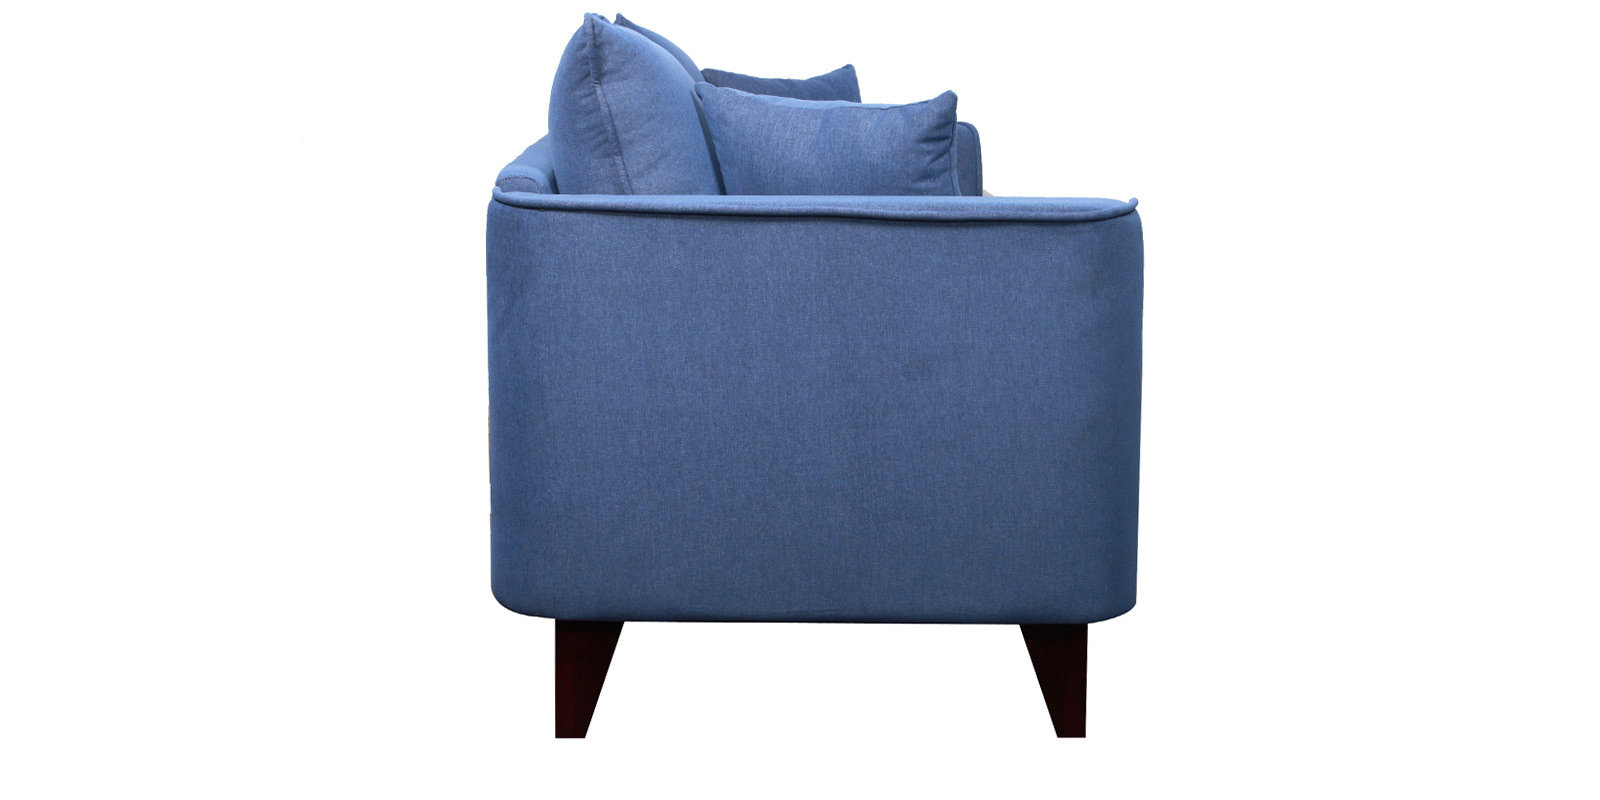Lara Three Seater Sofa in Denim Blue Colour by CasaCraft: (485, 9, 1144, 739)
